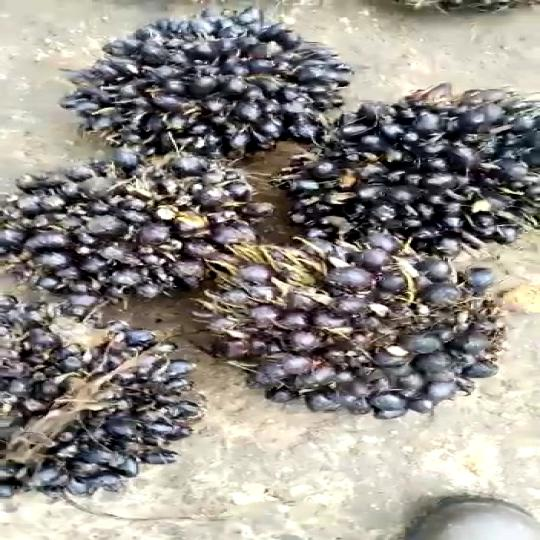mentah: (186, 240, 540, 437), (264, 82, 540, 278), (0, 288, 234, 501), (0, 146, 259, 317), (87, 16, 344, 173)
